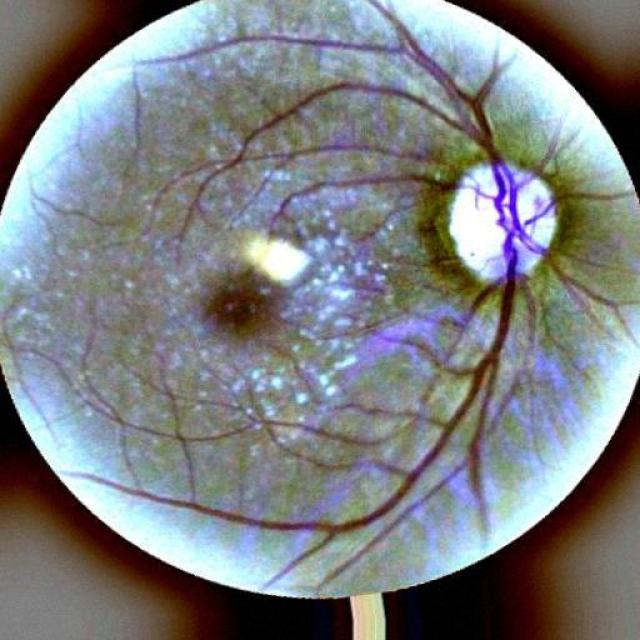Macula: (203, 270, 275, 339)
Nerves: (87, 29, 523, 536)
Optic Disk: (450, 165, 561, 284)
